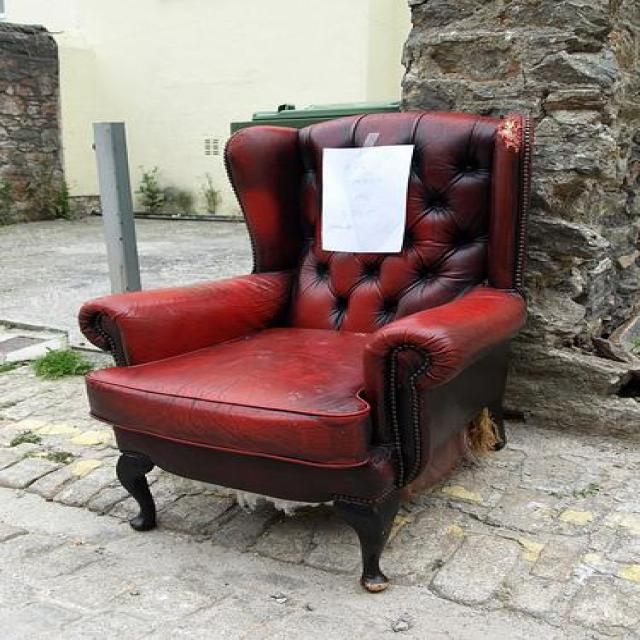chair: (76, 108, 537, 596)
